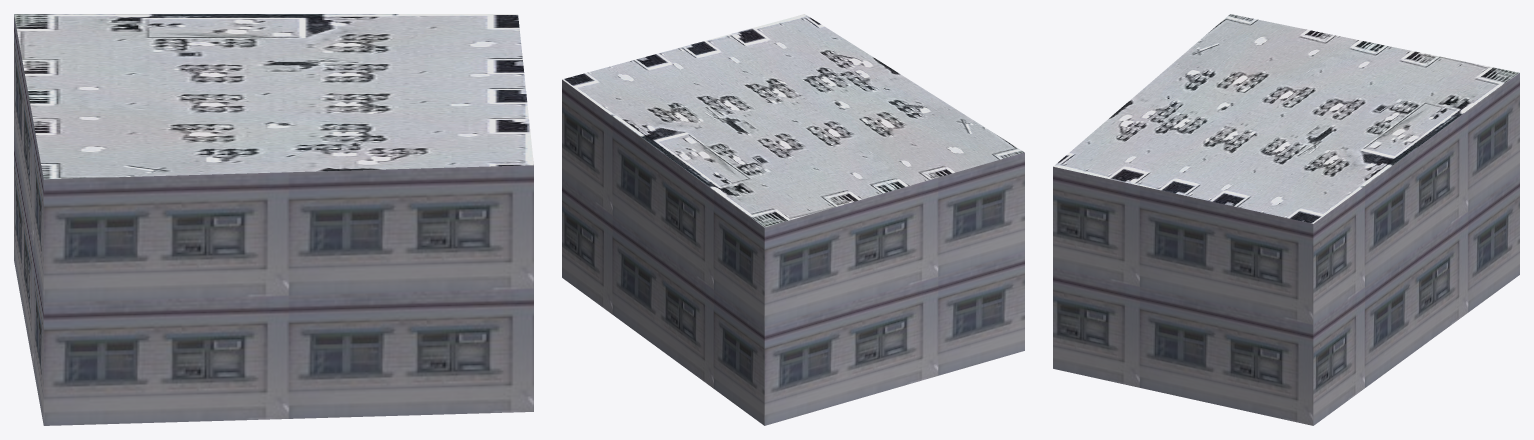
The model's file is ResTex__658.fbx.
3 renders of one model, left to right at view 1: azimuth 30°, elevation 25°; view 2: azimuth 150°, elevation 25°; view 3: azimuth 270°, elevation 25°, orthographic. The views are drawn at different scales.
Parts seen in each view (by area): view 1: CityEngineMaterial_1_m, CityEngineMaterial_8_m; view 2: CityEngineMaterial_1_m, CityEngineMaterial_8_m; view 3: CityEngineMaterial_1_m, CityEngineMaterial_8_m.
Boxes of the visible parts, x1=… form: CityEngineMaterial_1_m: x1=14, y1=15, x2=533, y2=425; CityEngineMaterial_8_m: x1=14, y1=14, x2=533, y2=179; CityEngineMaterial_1_m: x1=562, y1=79, x2=1024, y2=425; CityEngineMaterial_8_m: x1=562, y1=14, x2=1024, y2=227; CityEngineMaterial_1_m: x1=1053, y1=73, x2=1519, y2=425; CityEngineMaterial_8_m: x1=1053, y1=14, x2=1519, y2=223.
Bounding box in the file's own units: 13.37 × 6 × 12.56.
2 materials, 2 textured.
